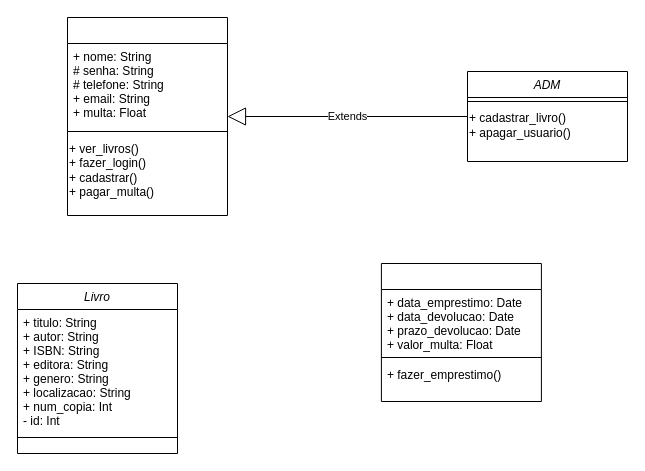
The diagram is 645 pixels wide and 471 high, and some of its shapes have lost their labels. Here are the shapes that lost their labels. From the top down, the box of each, then its label:
(66, 16, 228, 216): Usuario
(380, 262, 541, 402): Empréstimo
